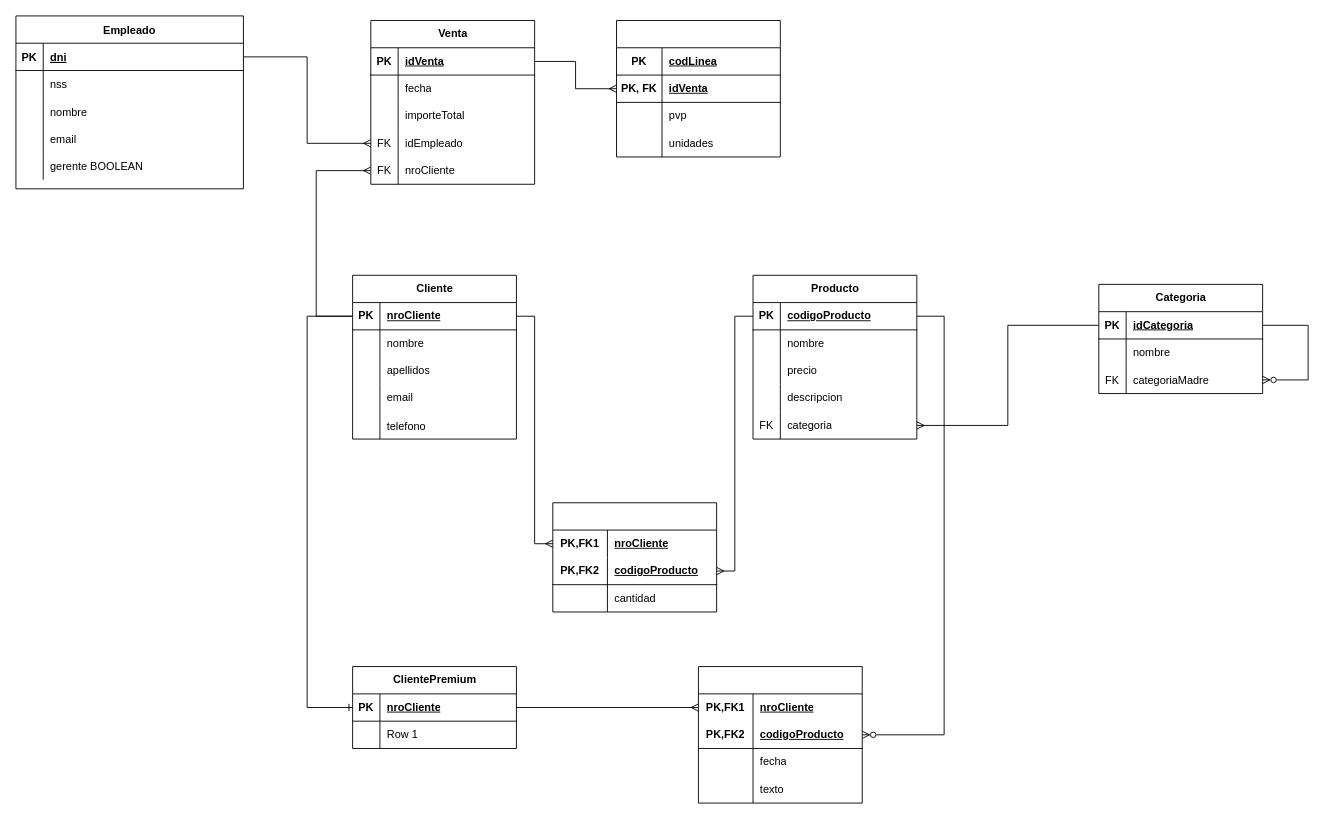
Some shapes in this 1331 by 819 pixel diagram are drawn without their labels. The box of each missing label's shape, as (x1, y1, x2, y2) in pixels:
CarritoCOmpra: (552, 502, 717, 612)
LineaVenta: (616, 20, 780, 157)
Revision: (698, 666, 862, 803)
